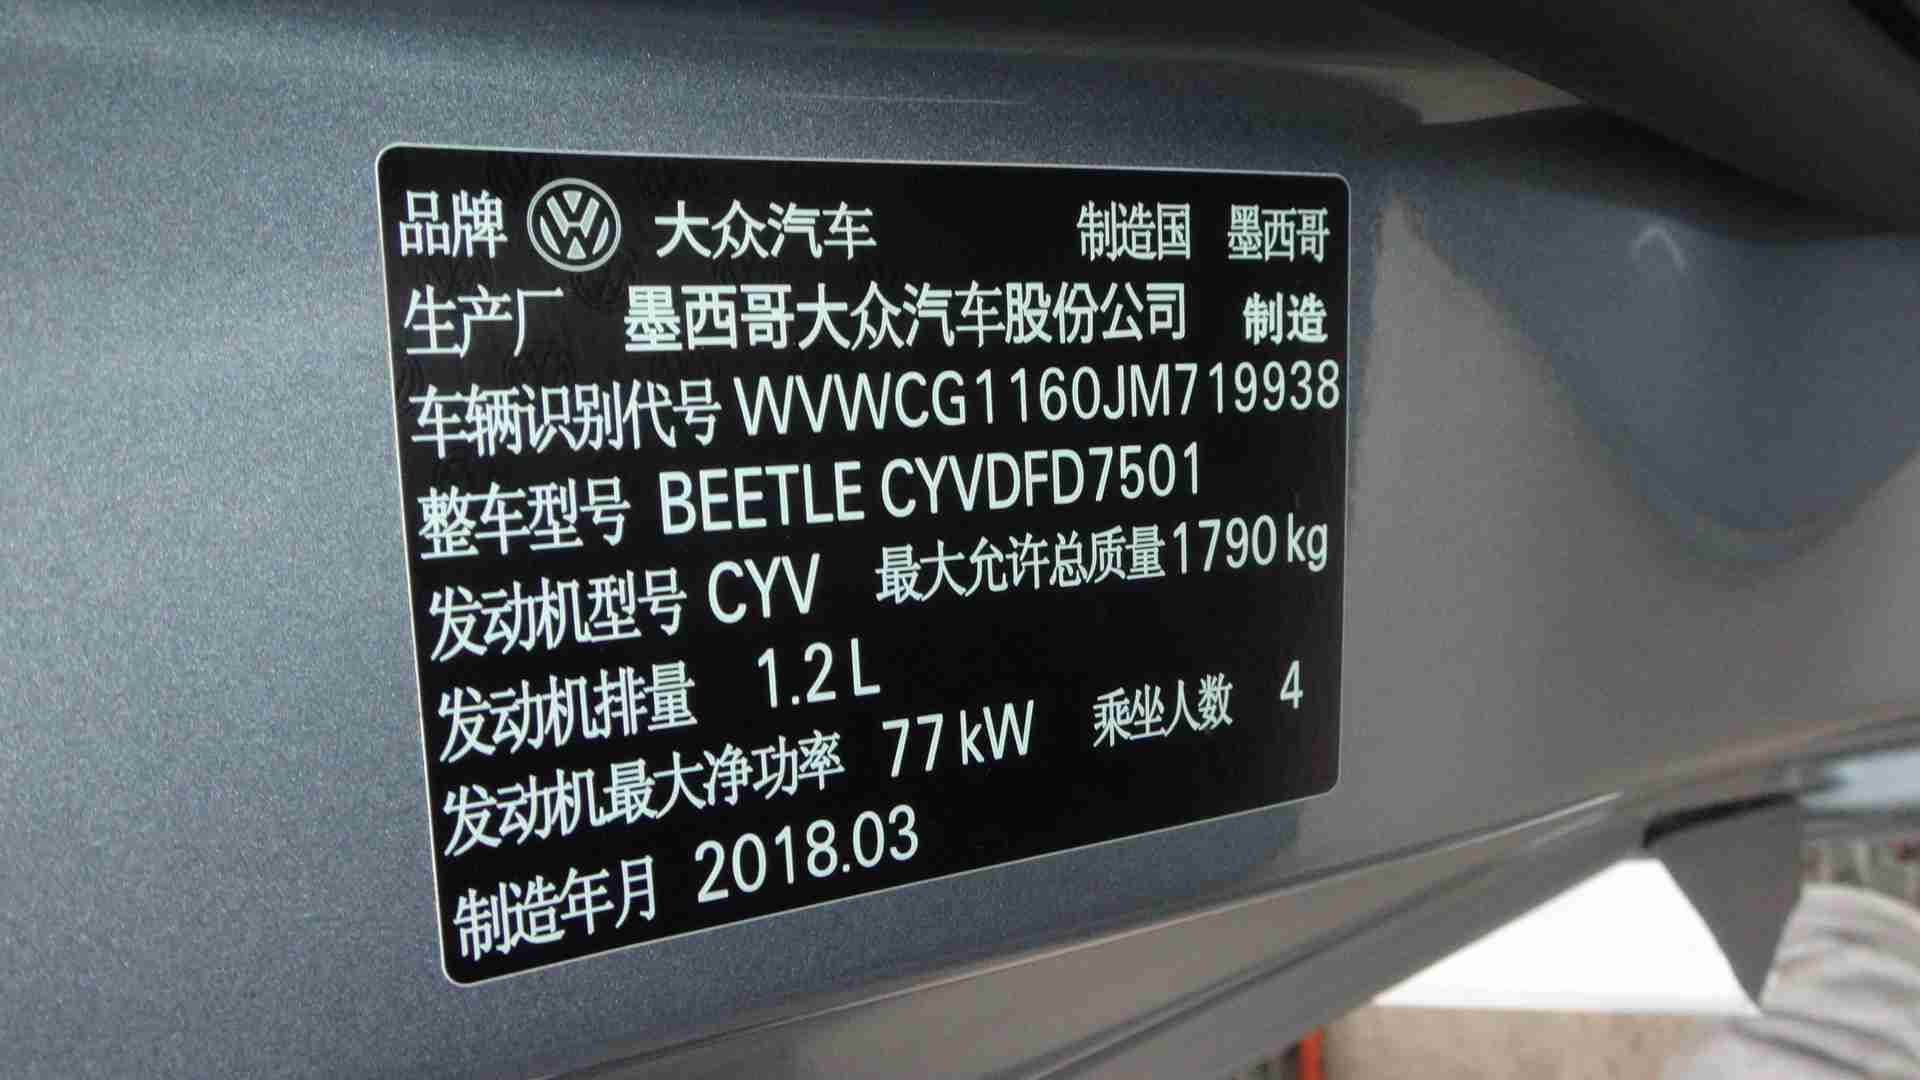1: (651, 430, 1208, 545)
vin: (729, 351, 1346, 448)
